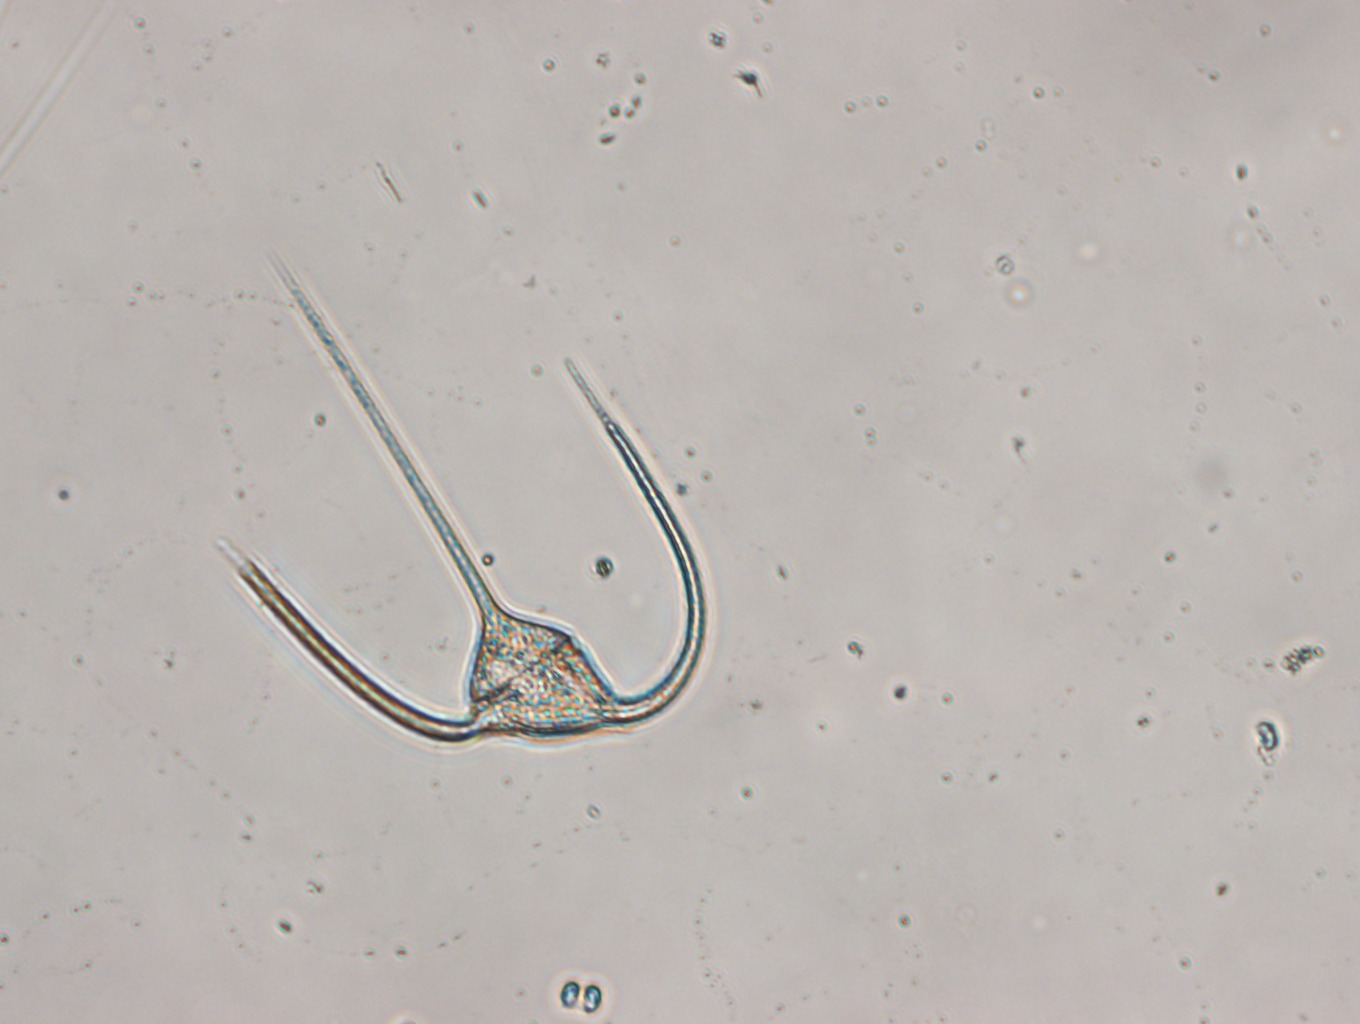ceratium trichoceros: (213, 244, 717, 748)
